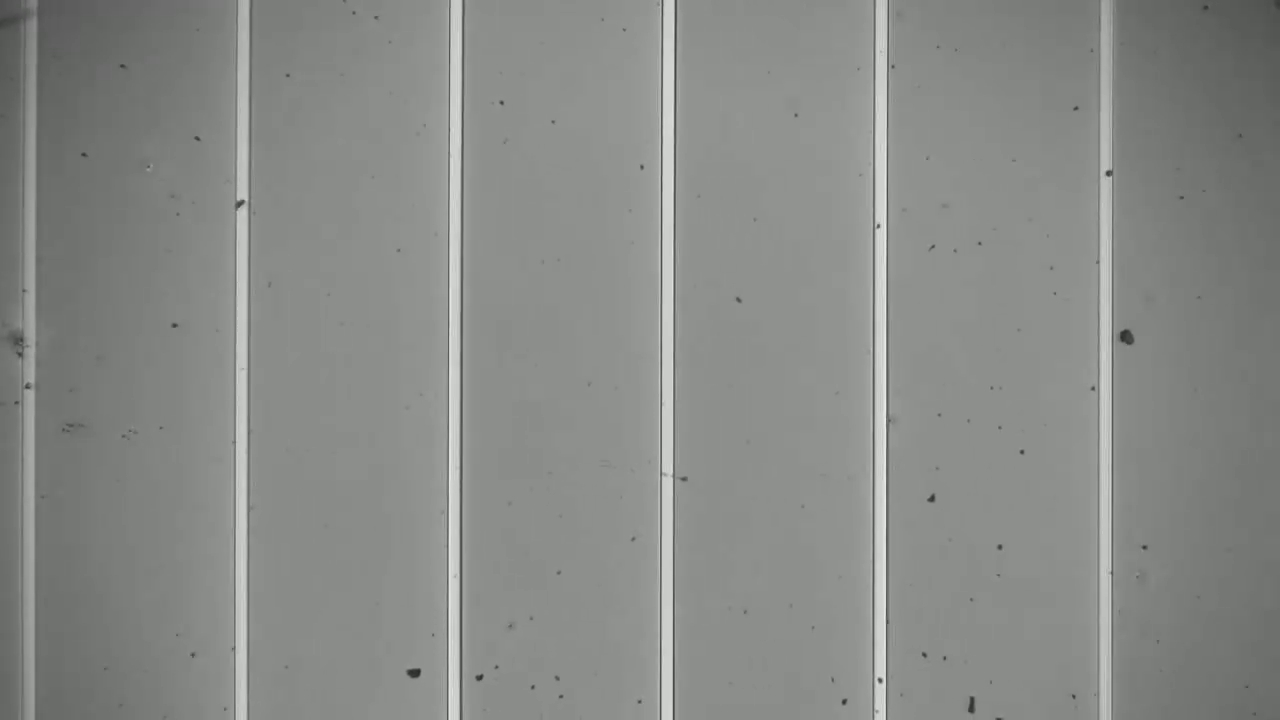stains_enbedded: (1094, 159, 1121, 184), (231, 190, 253, 217)
